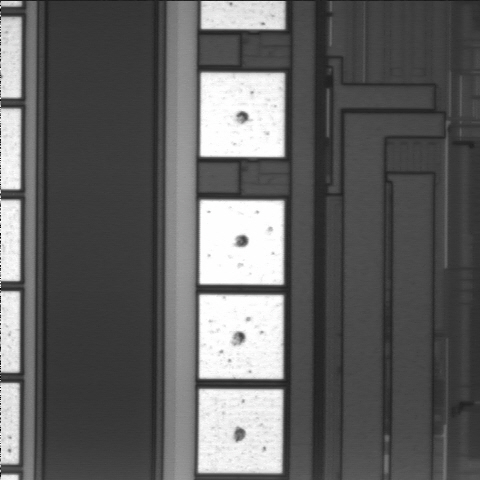pad: (199, 200, 284, 285), (200, 73, 285, 157), (199, 295, 284, 379), (198, 389, 283, 473)
